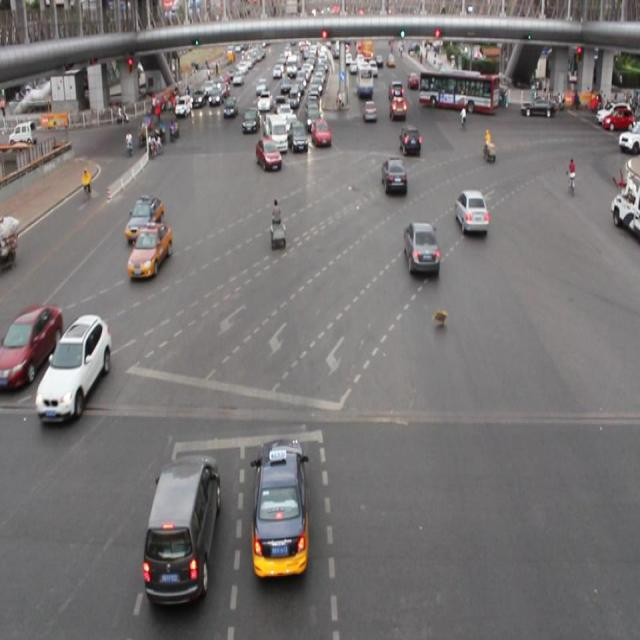car: (251, 436, 309, 576), (36, 313, 110, 421), (1, 304, 62, 387), (128, 223, 172, 278), (403, 219, 439, 278), (123, 196, 164, 242), (454, 189, 488, 236), (381, 156, 407, 197), (255, 136, 282, 172), (310, 116, 332, 151), (399, 125, 421, 156), (288, 120, 308, 154)
truck: (145, 453, 218, 603), (268, 115, 287, 154)
